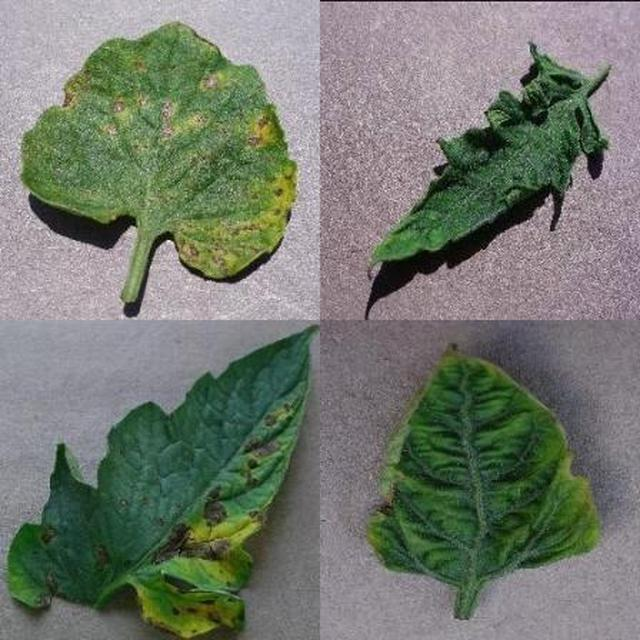Septoria Leaf: (230, 216, 640, 640)
